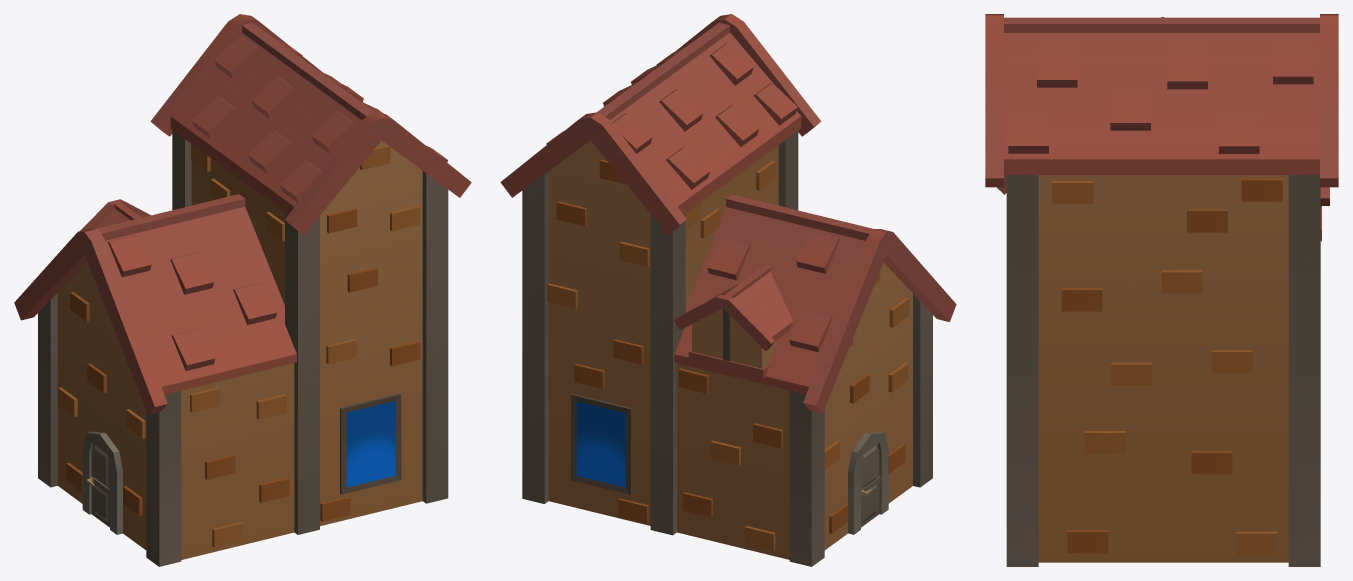
Rendered from SM_House_13.FBX.
The picture shows the model from 3 angles, left to right: view 1: azimuth 30°, elevation 25°; view 2: azimuth 150°, elevation 25°; view 3: azimuth 270°, elevation 25°; orthographic projection. The views are drawn at different scales.
Parts seen in each view (by area): view 1: SM_House_13; view 2: SM_House_13; view 3: SM_House_13.
Boxes of the visible parts, <box> form: SM_House_13: <box>14,14,471,566</box>; SM_House_13: <box>500,14,956,566</box>; SM_House_13: <box>985,14,1338,566</box>.
Size of what is drawn, in the model's own units: 927 by 720 by 1136.
